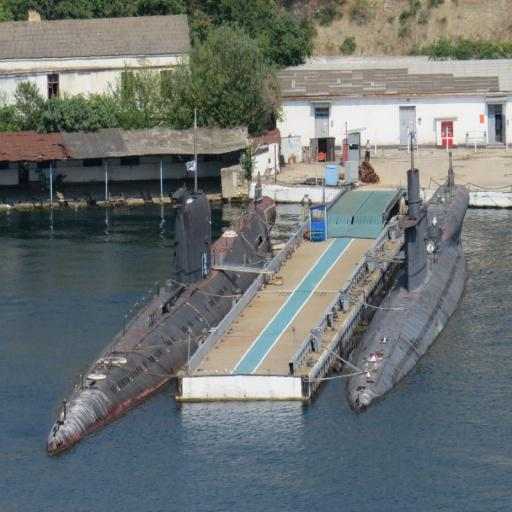submarine: (47, 197, 278, 458), (349, 165, 472, 416)
